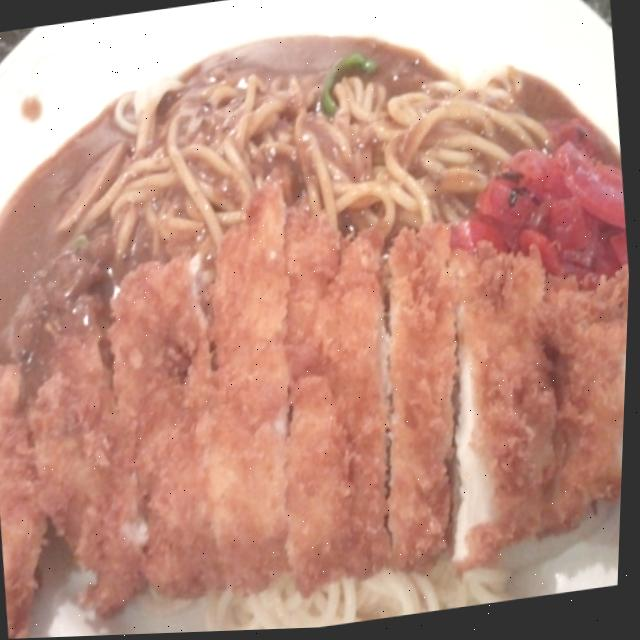鸡肉料理 含炸鸡: (0, 170, 635, 640)
